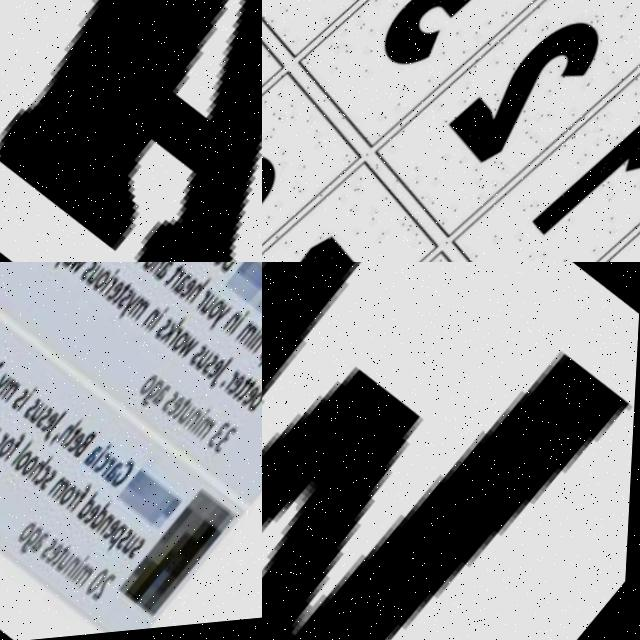1: (521, 87, 640, 262)
2: (433, 0, 630, 201)
3: (357, 0, 552, 108)
5: (108, 529, 134, 559)
A: (0, 0, 262, 262), (32, 531, 59, 561), (152, 386, 179, 415), (105, 463, 132, 492), (173, 277, 196, 303), (156, 263, 179, 289), (86, 449, 109, 474), (62, 262, 85, 274)
B: (77, 435, 103, 464), (250, 390, 262, 422)
C: (37, 466, 60, 491), (97, 457, 118, 480)
D: (81, 494, 109, 526), (94, 507, 120, 536), (220, 262, 248, 281), (144, 262, 170, 278)
E: (179, 282, 202, 308), (229, 380, 252, 406), (208, 364, 231, 390), (169, 400, 192, 426), (105, 522, 128, 548), (86, 507, 109, 533), (106, 285, 129, 310), (70, 434, 93, 459), (49, 546, 72, 571), (43, 415, 64, 439), (243, 391, 262, 416), (207, 262, 230, 271)
F: (73, 488, 98, 518), (7, 436, 32, 465)
G: (142, 384, 171, 416), (114, 464, 142, 496), (25, 529, 51, 559)
H: (60, 418, 89, 450), (187, 280, 215, 312), (31, 457, 57, 487), (252, 331, 262, 361)
I: (230, 318, 253, 345), (151, 312, 174, 339), (94, 448, 117, 475), (101, 273, 123, 299), (19, 390, 41, 415), (193, 416, 214, 440), (75, 560, 96, 584), (248, 331, 262, 357)
J: (210, 364, 241, 398), (45, 414, 74, 447)
K: (161, 320, 189, 352), (132, 262, 161, 271)
L: (15, 443, 38, 470)
M: (51, 479, 77, 507), (196, 422, 222, 449), (131, 302, 155, 329), (76, 568, 100, 595), (0, 381, 24, 407), (239, 328, 262, 353)
N: (67, 559, 90, 585), (225, 318, 246, 342), (188, 415, 209, 439), (101, 517, 122, 540), (143, 313, 164, 336), (150, 262, 173, 282)
O: (141, 378, 164, 404), (61, 487, 84, 513), (16, 452, 39, 478), (207, 304, 230, 329), (23, 457, 46, 482), (0, 438, 21, 463), (173, 336, 194, 360), (22, 524, 43, 548), (94, 274, 115, 297), (213, 262, 234, 275)
P: (255, 347, 262, 378), (0, 426, 6, 456)
R: (103, 459, 123, 483), (225, 376, 246, 398), (169, 331, 189, 354), (103, 280, 123, 303), (197, 295, 217, 317), (170, 275, 190, 297), (69, 494, 87, 515), (0, 435, 14, 454)
S: (36, 409, 59, 435), (131, 542, 154, 568), (41, 471, 64, 497), (155, 322, 178, 347), (25, 399, 48, 424), (13, 389, 36, 414), (203, 359, 225, 385), (164, 396, 186, 421), (117, 292, 139, 316), (119, 533, 140, 557), (81, 264, 102, 287), (193, 349, 213, 373), (45, 542, 65, 565)
T: (65, 429, 89, 456), (165, 268, 189, 294), (239, 385, 262, 412), (56, 547, 78, 572), (237, 384, 257, 408), (116, 288, 135, 310), (177, 404, 196, 426)
U: (180, 409, 203, 434), (87, 268, 108, 292), (31, 405, 52, 429), (201, 300, 222, 323), (197, 356, 218, 379), (125, 538, 146, 561), (61, 555, 82, 578)
W: (262, 262, 640, 640), (179, 342, 203, 369), (69, 262, 93, 280)
Y: (208, 309, 236, 340), (118, 297, 144, 327), (0, 375, 14, 405), (52, 262, 78, 274)
